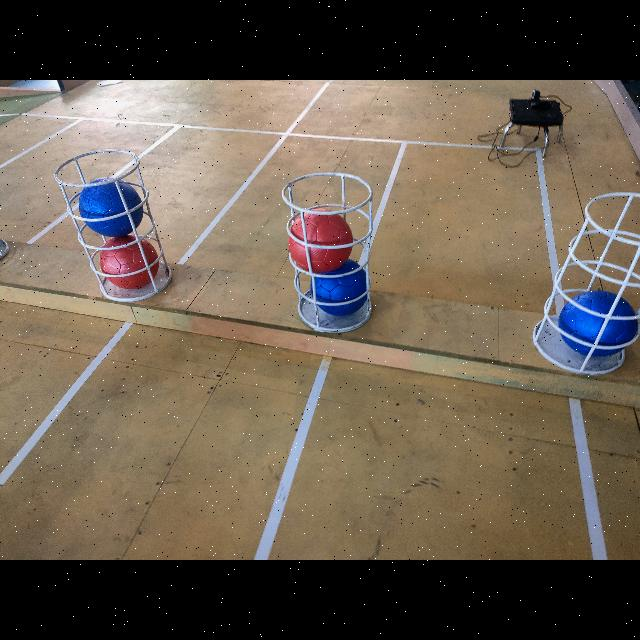B: (560, 292, 636, 356), (80, 178, 142, 238), (312, 257, 370, 315)
R: (290, 209, 352, 269), (100, 235, 158, 291)
